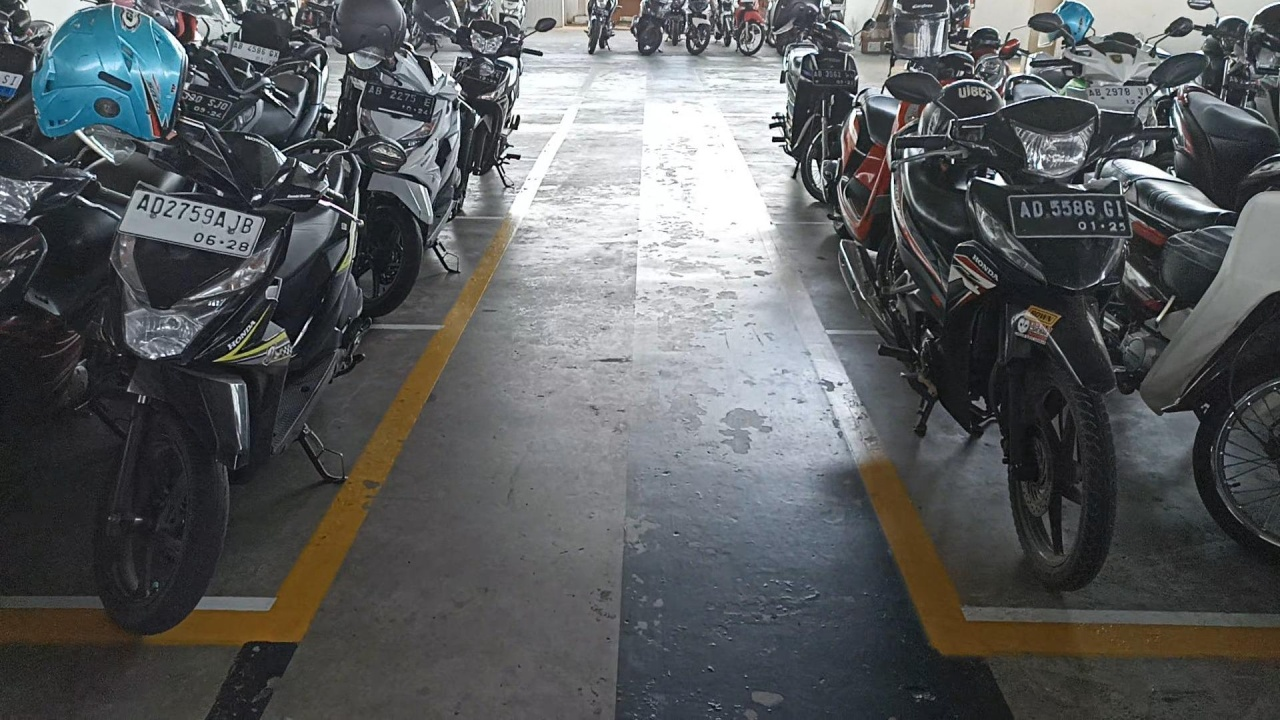plate: (118, 188, 266, 258), (1009, 194, 1133, 237), (361, 81, 436, 122), (813, 69, 856, 86)
